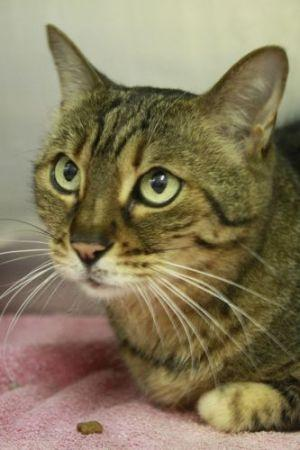bengal: (21, 15, 293, 307)
